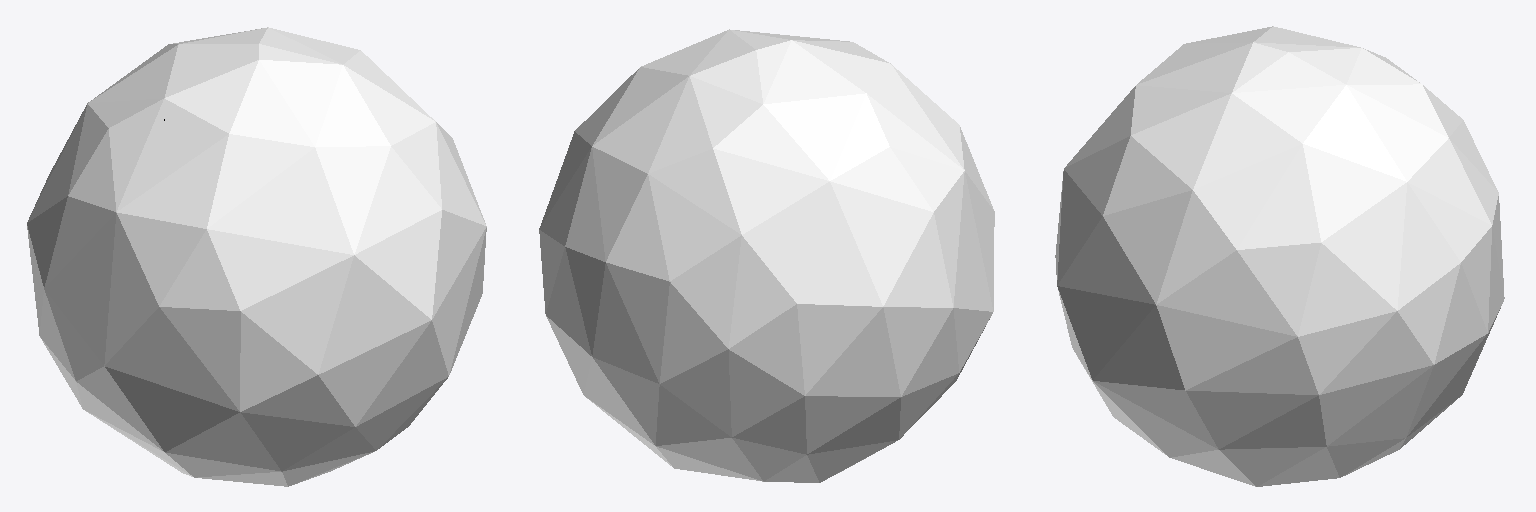
3 views of the same model, side by side, from view 1: azimuth 30°, elevation 25°; view 2: azimuth 150°, elevation 25°; view 3: azimuth 270°, elevation 25° (orthographic).
Visible parts, largest first — view 1: Sphere05; view 2: Sphere05; view 3: Sphere05.
Part boxes in pixels (bbox=[...]): Sphere05: bbox=[27, 27, 486, 486]; Sphere05: bbox=[539, 29, 994, 482]; Sphere05: bbox=[1055, 26, 1504, 486].
Size of the model in its own units: 0.2206 by 0.2213 by 0.216.
Materials: 1 (1 with a texture image).